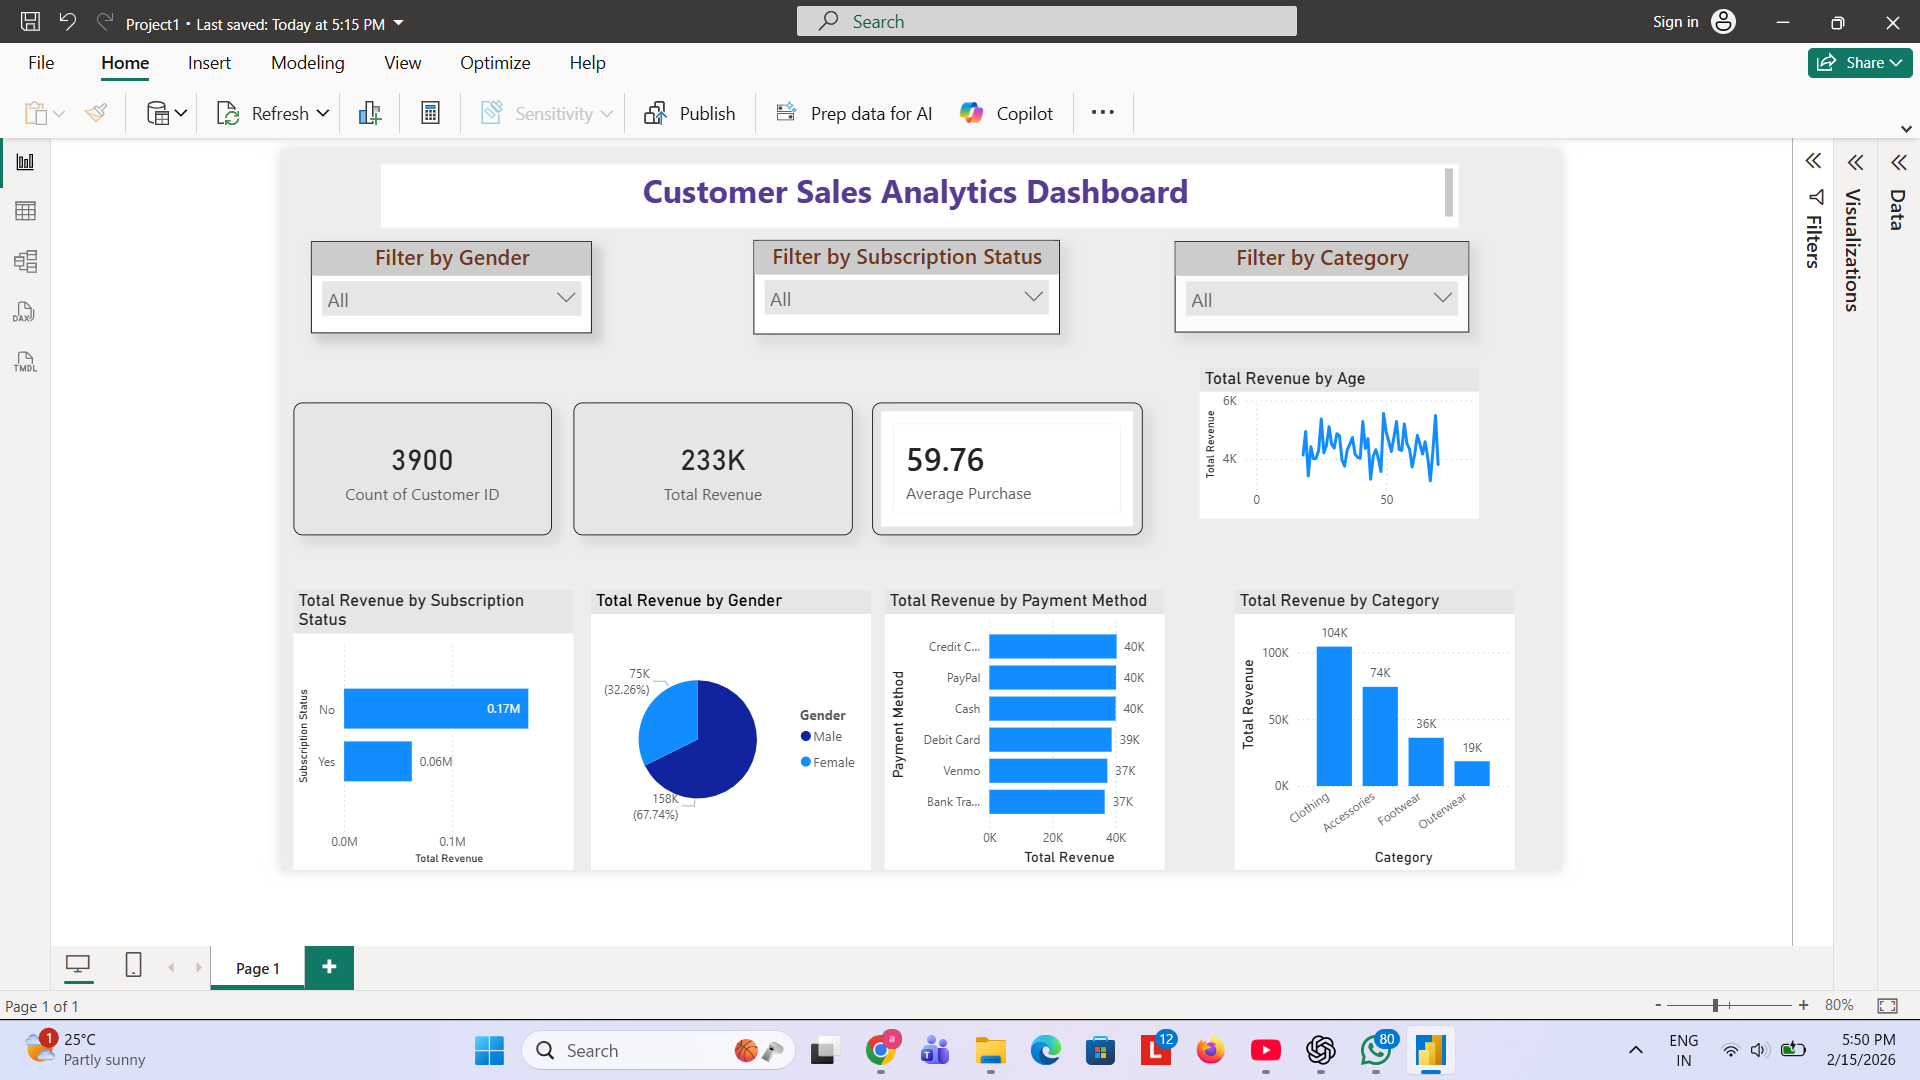

This screenshot's page, from the dashboard's own definition file:
{"tool":"powerbi","page":{"name":"Page 1","canvas":[1280,720],"ordinal":0},"visuals":[{"type":"card","fields":{"Values":["shopping_behavior.Total Revenue"]},"box":[291.9,252.5,279.5,133],"z":0},{"type":"barChart","fields":{"Category":["shopping_behavior.Subscription Status"],"Y":["shopping_behavior.Total Revenue"]},"box":[12.5,440,280,280],"z":1000},{"type":"card","fields":{"Values":["CountNonNull(shopping_behavior.Customer ID)"]},"box":[12,252,258,133],"z":2000},{"type":"cardVisual","fields":{"Data":["shopping_behavior.Average Purchase"]},"box":[591,252,270,133],"z":3000},{"type":"pieChart","fields":{"Category":["shopping_behavior.Gender"],"Y":["shopping_behavior.Total Revenue"]},"box":[310.6,440.2,280,280],"z":4000},{"type":"barChart","fields":{"Category":["shopping_behavior.Payment Method"],"Y":["shopping_behavior.Total Revenue"]},"box":[604.1,440.2,280,280],"z":6000},{"type":"columnChart","fields":{"Category":["shopping_behavior.Category"],"Y":["shopping_behavior.Total Revenue"]},"box":[953.8,440.2,280,280],"z":7000},{"type":"lineChart","fields":{"Category":["shopping_behavior.Age"],"Y":["shopping_behavior.Total Revenue"]},"box":[918.6,217.5,279.5,151],"z":8000},{"type":"slicer","title":"Filter by Gender","fields":{"Values":["shopping_behavior.Gender"]},"box":[30,91,281,92],"z":9000},{"type":"slicer","title":"Filter by Subscription Status","fields":{"Values":["shopping_behavior.Subscription Status"]},"box":[472,90,306,94],"z":10000},{"type":"slicer","title":" Filter by Category","fields":{"Values":["shopping_behavior.Category"]},"box":[894,91,294,91],"z":11000},{"type":"textbox","box":[100.1,13.5,1077.3,63.6],"z":11001}]}

Visuals, with their boxes on the page's 1280x720 design canvas (x1, y1, x2, y2). These are canvas units, not pixel positions in the 1920x1080 screenshot, which may show the page scaled, cropped or inside an application window:
card - shopping_behavior.Total Revenue: [left=292, top=252, right=571, bottom=386]
barChart - shopping_behavior.Subscription Status x shopping_behavior.Total Revenue: [left=12, top=440, right=292, bottom=720]
card - CountNonNull(shopping_behavior.Customer ID): [left=12, top=252, right=270, bottom=385]
cardVisual - shopping_behavior.Average Purchase: [left=591, top=252, right=861, bottom=385]
pieChart - shopping_behavior.Gender x shopping_behavior.Total Revenue: [left=311, top=440, right=591, bottom=720]
barChart - shopping_behavior.Payment Method x shopping_behavior.Total Revenue: [left=604, top=440, right=884, bottom=720]
columnChart - shopping_behavior.Category x shopping_behavior.Total Revenue: [left=954, top=440, right=1234, bottom=720]
lineChart - shopping_behavior.Age x shopping_behavior.Total Revenue: [left=919, top=218, right=1198, bottom=368]
"Filter by Gender" slicer: [left=30, top=91, right=311, bottom=183]
"Filter by Subscription Status" slicer: [left=472, top=90, right=778, bottom=184]
" Filter by Category" slicer: [left=894, top=91, right=1188, bottom=182]
textbox: [left=100, top=14, right=1177, bottom=77]
